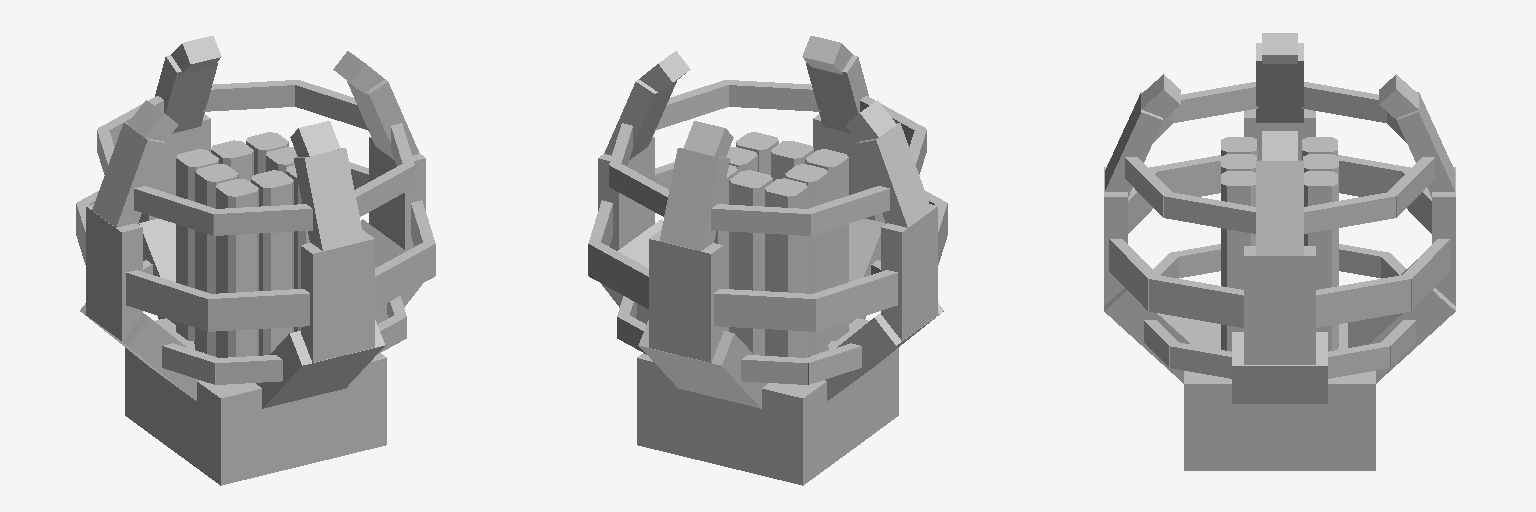
The model's file is combinersolidmatter.obj.
3 views of the same model, side by side, from view 1: azimuth 30°, elevation 25°; view 2: azimuth 150°, elevation 25°; view 3: azimuth 270°, elevation 25° (orthographic).
Visible parts, largest first — view 1: cube.044, cube.025, cube.000, cube.026, cube.024, cube.001, cube.039, cube.038, cube.015, cube.030, cube.041, cube.033 (+28 smaller); view 2: cube.044, cube.029, cube.000, cube.030, cube.028, cube.001, cube.004, cube.003, cube.015, cube.026, cube.006, cube.019 (+28 smaller); view 3: cube.044, cube.015, cube.016, cube.014, cube.032, cube.018, cube.001, cube.024, cube.028, cube.020, cube.034, cube.030 (+28 smaller).
Boxes of the visible parts, x1=… form: cube.044: x1=125, y1=318, x2=386, y2=485; cube.025: x1=301, y1=230, x2=374, y2=362; cube.000: x1=86, y1=204, x2=142, y2=340; cube.026: x1=294, y1=148, x2=363, y2=250; cube.024: x1=256, y1=320, x2=385, y2=408; cube.001: x1=92, y1=123, x2=166, y2=227; cube.039: x1=207, y1=289, x2=309, y2=331; cube.038: x1=126, y1=270, x2=211, y2=331; cube.015: x1=369, y1=137, x2=425, y2=250; cube.030: x1=155, y1=55, x2=218, y2=133; cube.041: x1=212, y1=204, x2=312, y2=235; cube.033: x1=375, y1=241, x2=435, y2=308; cube.044: x1=637, y1=318, x2=898, y2=485; cube.029: x1=649, y1=230, x2=722, y2=362; cube.000: x1=881, y1=204, x2=937, y2=340; cube.030: x1=660, y1=148, x2=729, y2=250; cube.028: x1=638, y1=320, x2=767, y2=408; cube.001: x1=857, y1=123, x2=931, y2=227; cube.004: x1=714, y1=289, x2=816, y2=331; cube.003: x1=813, y1=270, x2=897, y2=331; cube.015: x1=598, y1=137, x2=654, y2=250; cube.026: x1=805, y1=55, x2=868, y2=133; cube.006: x1=711, y1=204, x2=810, y2=235; cube.019: x1=588, y1=242, x2=648, y2=308; cube.044: x1=1184, y1=323, x2=1375, y2=470; cube.015: x1=1244, y1=246, x2=1315, y2=364; cube.016: x1=1256, y1=160, x2=1303, y2=255; cube.014: x1=1232, y1=332, x2=1327, y2=403; cube.032: x1=1149, y1=274, x2=1243, y2=327; cube.018: x1=1316, y1=274, x2=1410, y2=327; cube.001: x1=1256, y1=43, x2=1303, y2=122; cube.024: x1=1104, y1=259, x2=1211, y2=383; cube.028: x1=1348, y1=259, x2=1455, y2=383; cube.020: x1=1304, y1=192, x2=1395, y2=233; cube.034: x1=1164, y1=192, x2=1255, y2=233; cube.030: x1=1397, y1=92, x2=1454, y2=196.
Size of the model in its own units: 1.83 by 2 by 1.83.